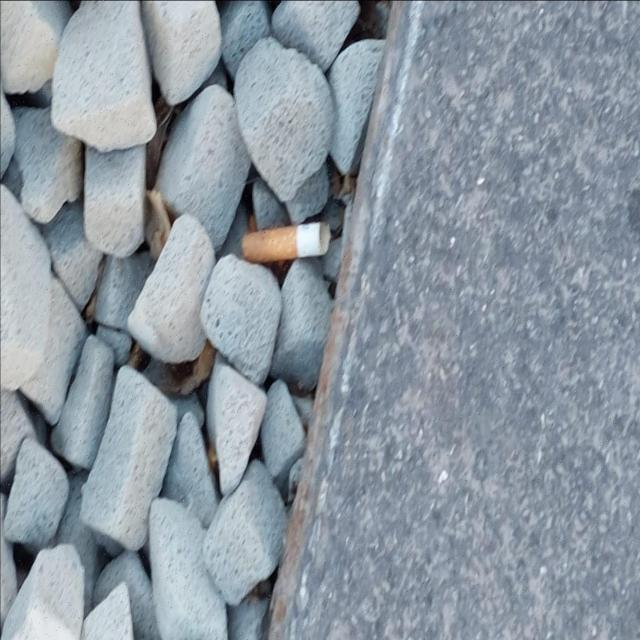other waste: (240, 219, 331, 264)
